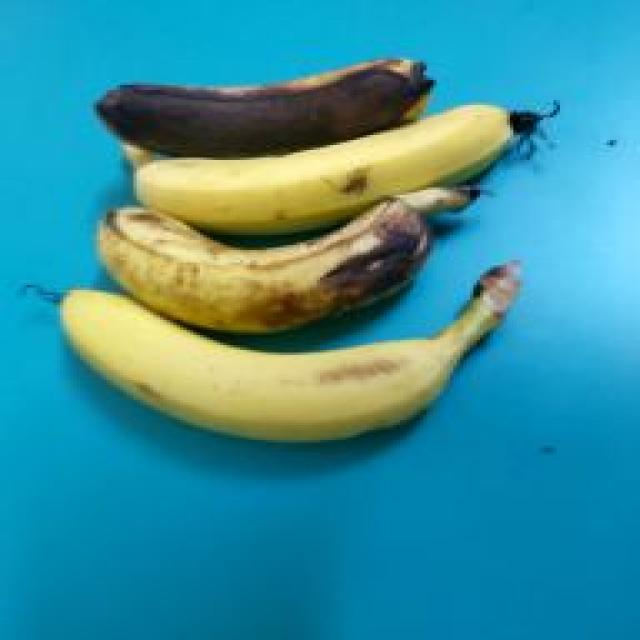Organik: (39, 269, 564, 449), (84, 194, 482, 339), (104, 98, 560, 214), (75, 56, 442, 150)
